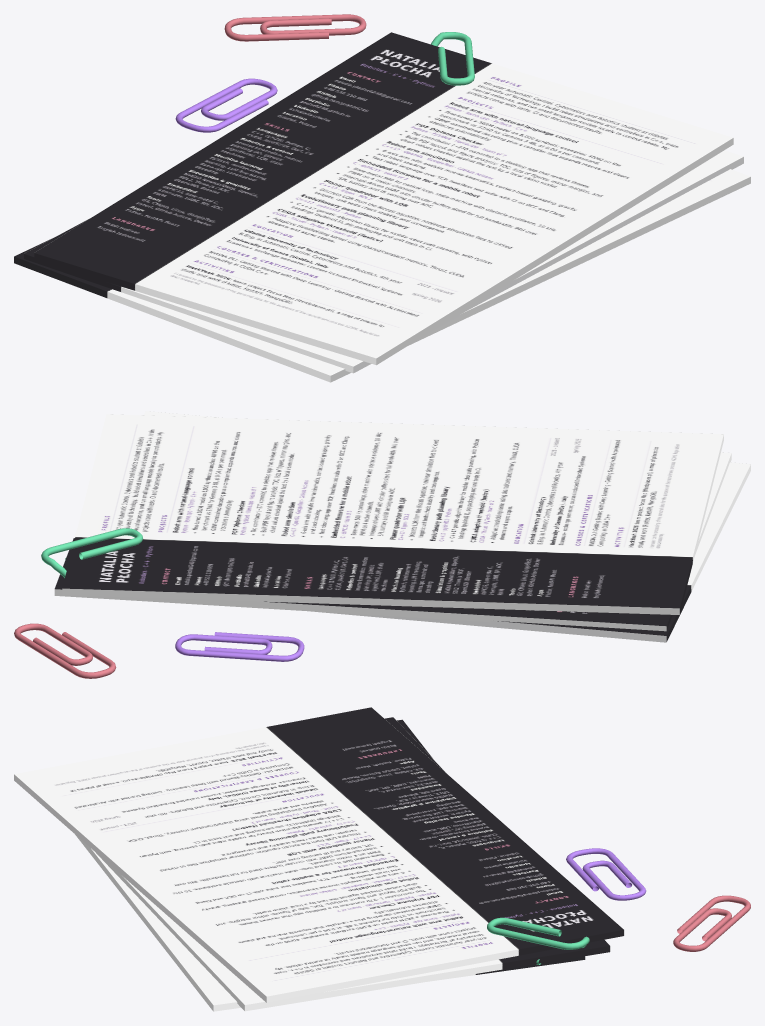
Rendered from kartki.glb.
The picture shows the model from 3 angles, top to bottom: view 1: azimuth 30°, elevation 25°; view 2: azimuth 150°, elevation 25°; view 3: azimuth 270°, elevation 25°; orthographic projection. The views are drawn at different scales.
Visible parts, largest first — view 1: Plane.003, Plane.007, Plane.008, Plane.006; view 2: Plane.003, Plane.008, Plane.007, Plane.006; view 3: Plane.003, Plane.007, Plane.008, Plane.006.
Boxes of the visible parts, x1=… form: Plane.003: x1=14, y1=32, x2=750, y2=382; Plane.007: x1=224, y1=14, x2=366, y2=41; Plane.008: x1=175, y1=78, x2=277, y2=132; Plane.006: x1=431, y1=32, x2=474, y2=85; Plane.003: x1=54, y1=411, x2=750, y2=642; Plane.008: x1=175, y1=632, x2=304, y2=661; Plane.007: x1=14, y1=623, x2=116, y2=678; Plane.006: x1=41, y1=528, x2=142, y2=577; Plane.003: x1=14, y1=707, x2=624, y2=1011; Plane.007: x1=673, y1=895, x2=750, y2=951; Plane.008: x1=566, y1=848, x2=646, y2=900; Plane.006: x1=487, y1=917, x2=589, y2=964.
Bounding box in the file's own units: 0.0343 × 0.00174 × 0.0367.
Materials: 4 (1 with a texture image).
